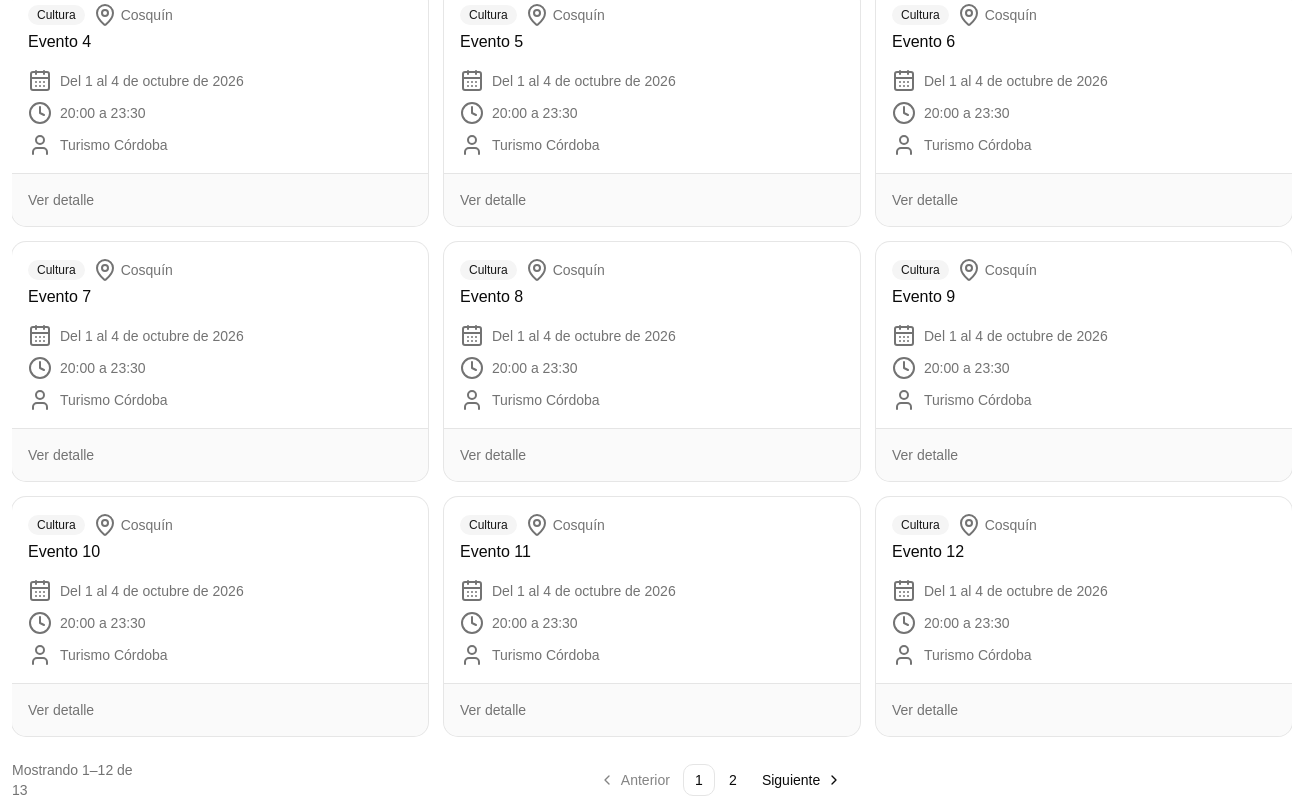
Test: EventosPage › pide la página siguiente al clickear un número
The image size is (1292, 800).
(page scrolled)
Check: the link "1" is shown, box [683,764,715,796]
Step 1. Click the link "2" → (733, 780), box [729,772,737,788]
(page scrolled)
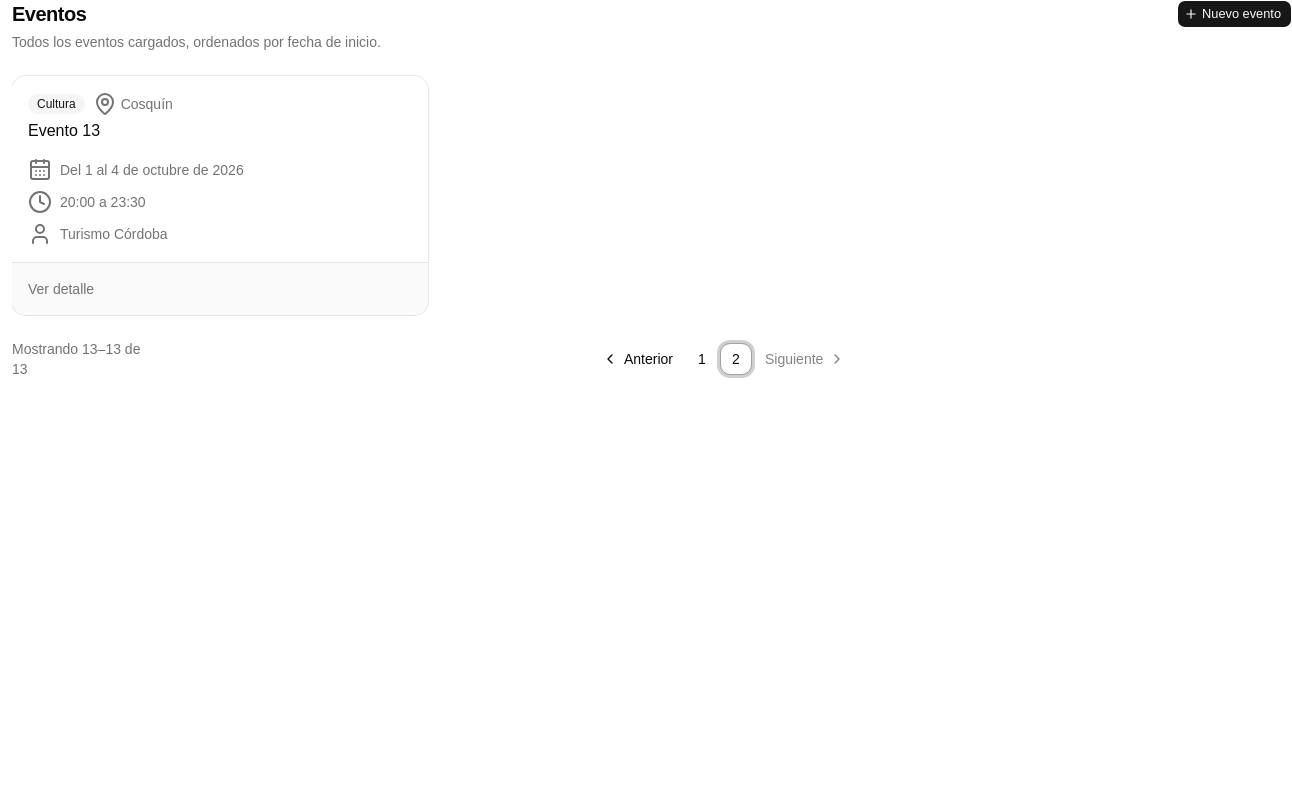
Check: the link "2" is shown, box [720,343,752,375]
Check: the text "Mostrando 13–13 de 13" is shown, box [12,339,143,379]
Check: the link "Evento 13" is shown, box [28,122,100,139]
